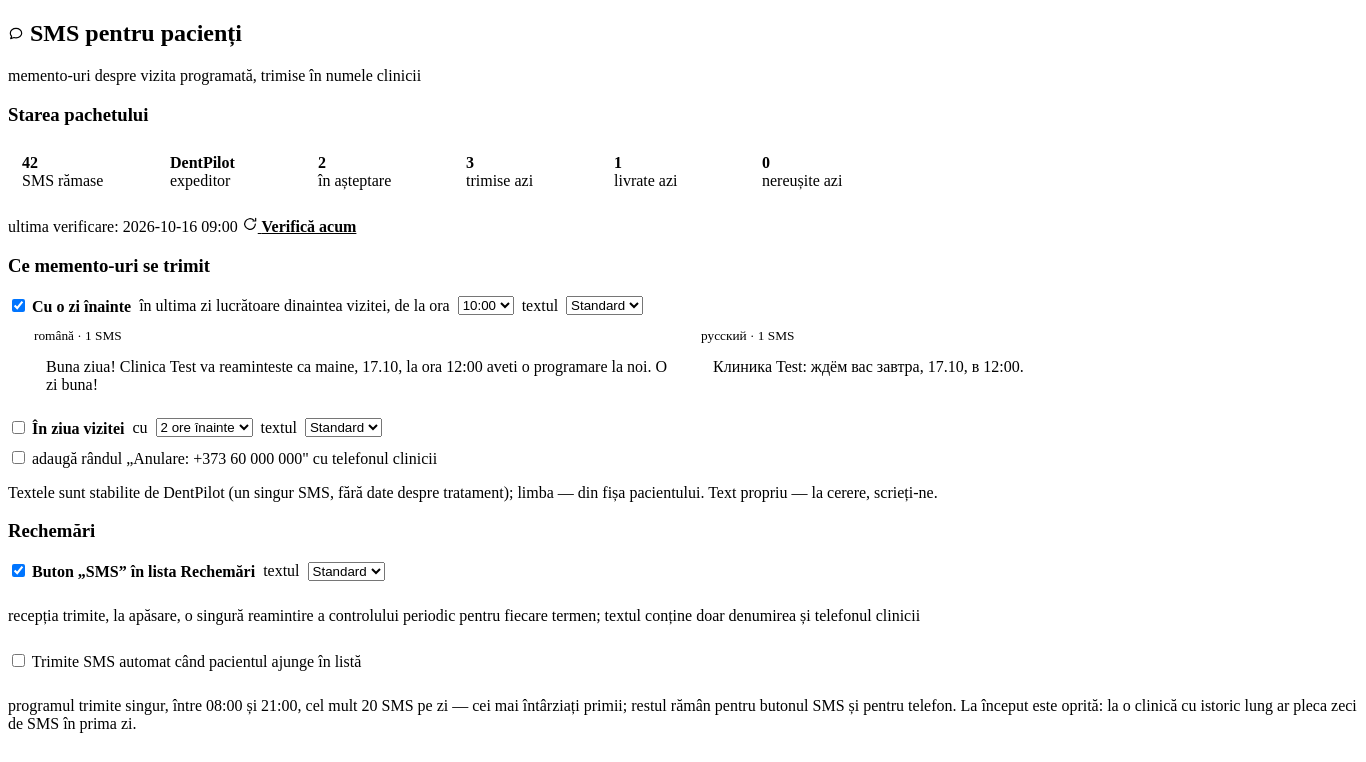
Test: SmsSettingsScreen › переключатель сохраняется сразу: POST с полной формой, ответ подменяет данные
Expected: the text "42" is shown, left=22, top=154, right=38, bottom=171
Click the checkbox labelled "În ziua vizitei" at (18, 427), box left=12, top=421, right=25, bottom=434
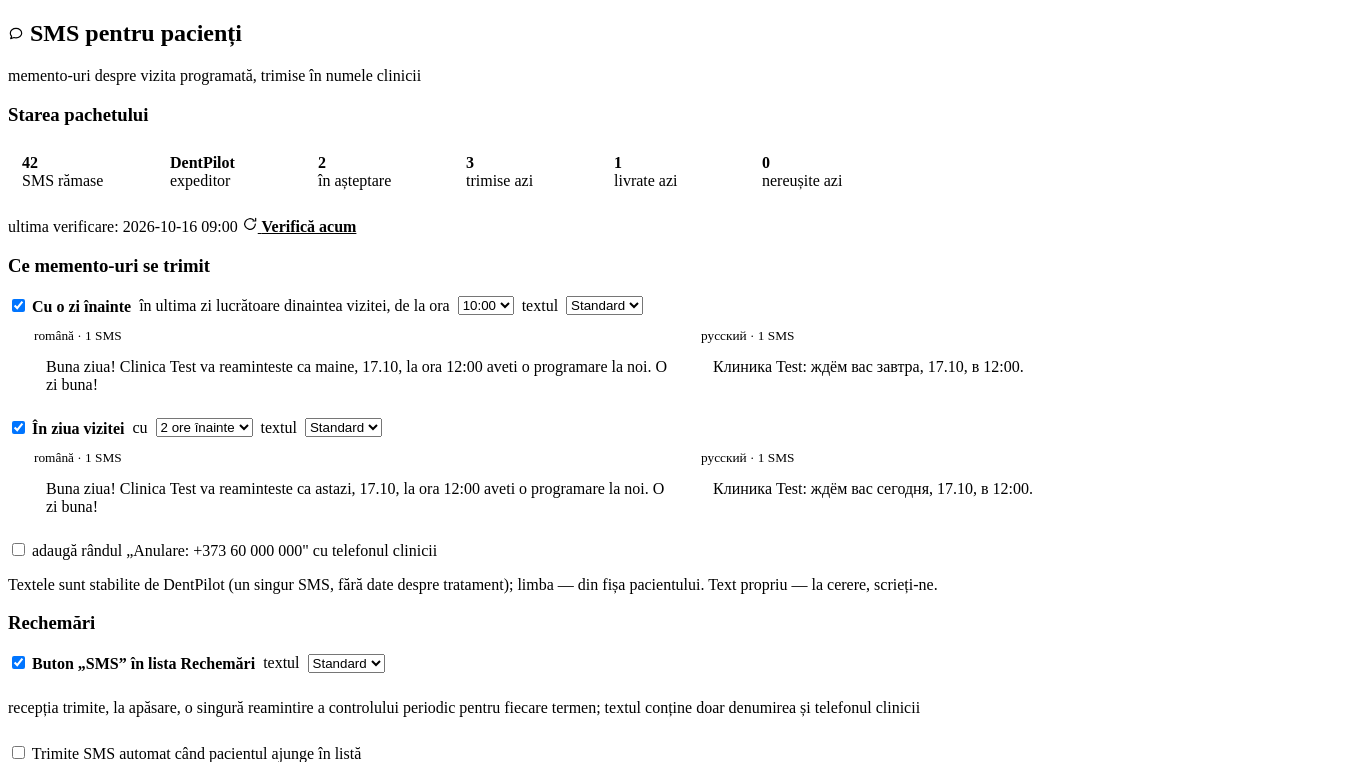
Now the checkbox labelled "În ziua vizitei" is checked, box left=12, top=421, right=25, bottom=434
Now the text "Clinica Test va reaminteste ca astazi" is shown, box left=46, top=480, right=668, bottom=515
